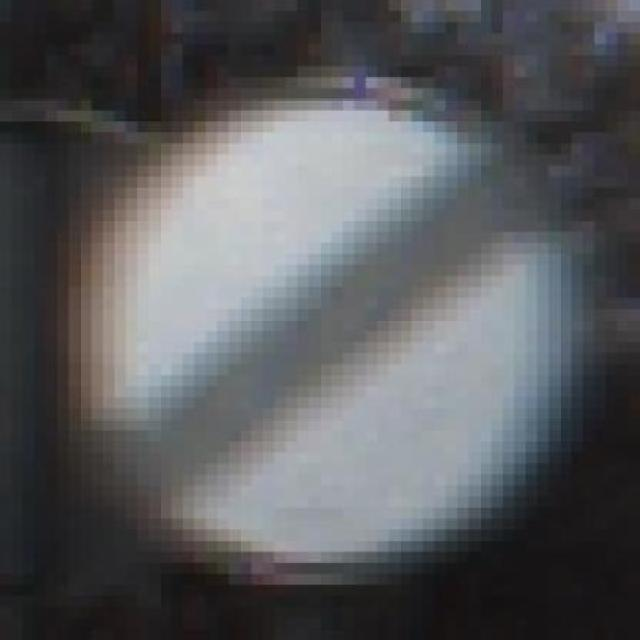End of all speed and passing limits: (80, 54, 583, 586)
